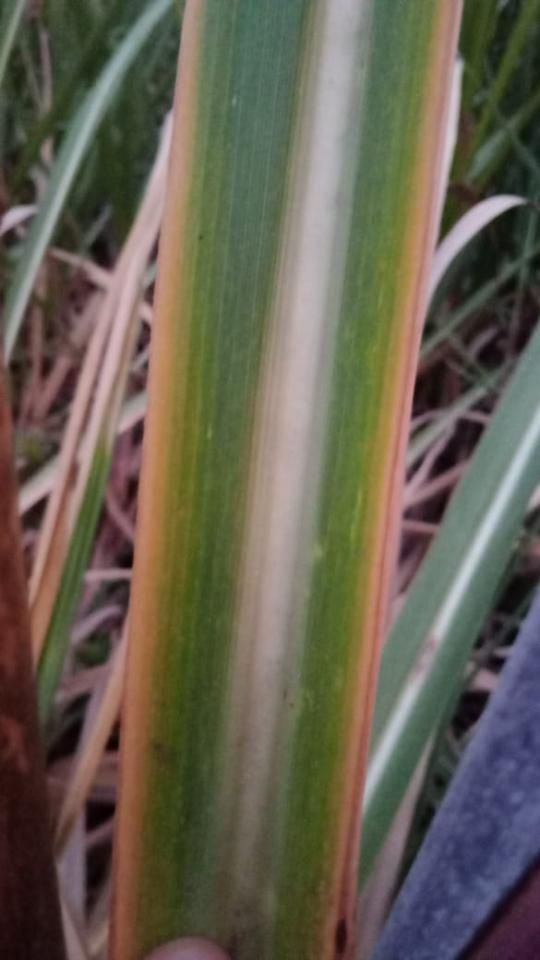RedRot: (336, 916, 347, 954)
Yellow: (325, 0, 464, 959), (109, 0, 203, 959)
